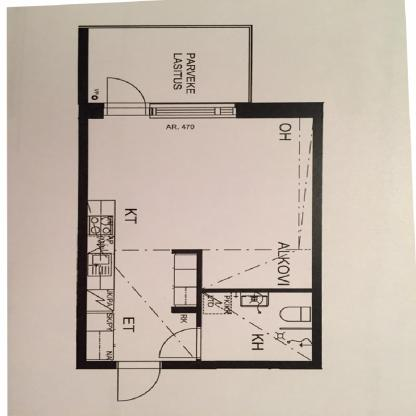door: (117, 360, 161, 402), (105, 78, 150, 115), (158, 327, 201, 358)
window: (150, 103, 237, 118)
zone: (89, 118, 310, 360), (88, 28, 248, 103), (205, 293, 311, 360)
